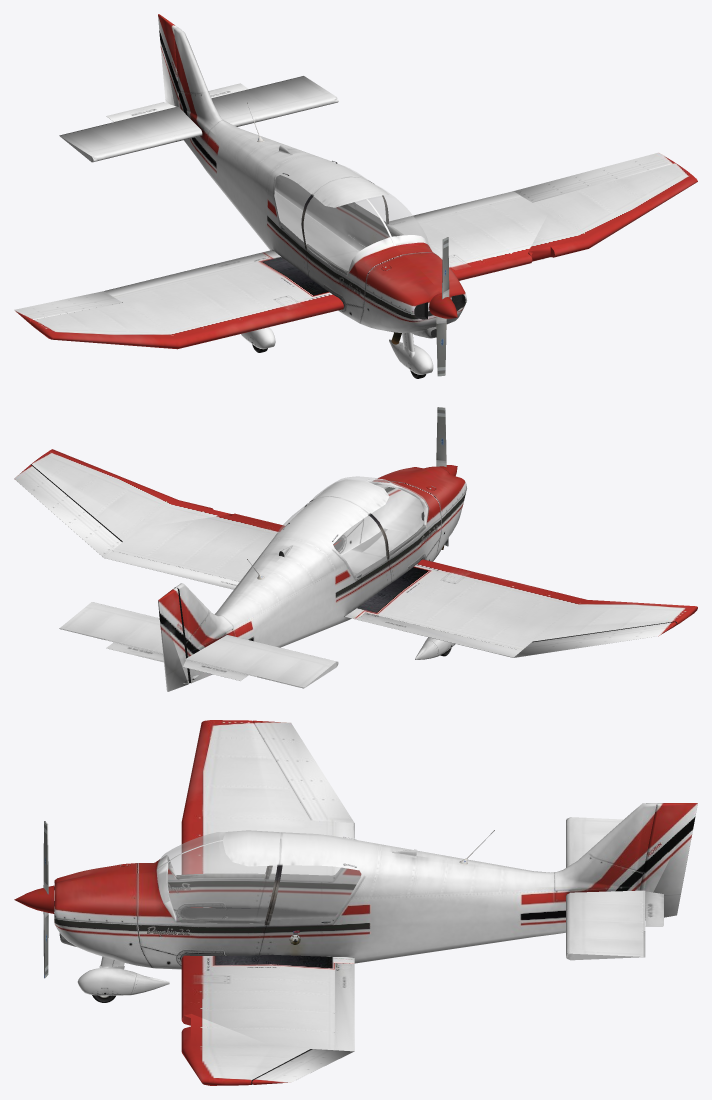
The picture shows the model from 3 angles, top to bottom: view 1: azimuth 30°, elevation 25°; view 2: azimuth 150°, elevation 25°; view 3: azimuth 270°, elevation 25°; orthographic projection. The views are drawn at different scales.
Parts seen in each view (by area): view 1: body, elevL1, ailL1, gear, ailR1, rud1, flapR1, fanL1, flapL1; view 2: body, elevL1, ailL1, rud1, ailR1, flapR1, flapL1, fanL1, gear; view 3: body, elevL1, rud1, ailR1, gear, flapL1, ailL1, fanL1.
Part boxes in pixels (x1,y1,x2,y2): body: (30,27,697,349); elevL1: (59,76,338,162); ailL1: (513,152,675,202); gear: (241,327,433,378); ailR1: (14,291,121,323); rud1: (158,14,179,107); flapR1: (104,253,268,296); fanL1: (436,237,449,376); flapL1: (389,191,521,227); body: (30,449,697,683); elevL1: (59,602,338,688); ailL1: (14,465,121,557); rud1: (158,587,190,691); ailR1: (513,622,676,657); flapR1: (357,612,521,657); flapL1: (104,551,239,589); fanL1: (436,407,448,546); gear: (415,637,455,659); body: (14,720,663,1085); elevL1: (566,817,645,960); rud1: (639,803,697,920); ailR1: (252,720,354,822); gear: (77,956,169,1002); flapL1: (335,963,354,1051); ailL1: (252,1049,354,1084); fanL1: (43,821,48,978).
Bounding box in the file's own units: 8.71 × 2.23 × 6.96.
Materials: 2 (1 with a texture image).
